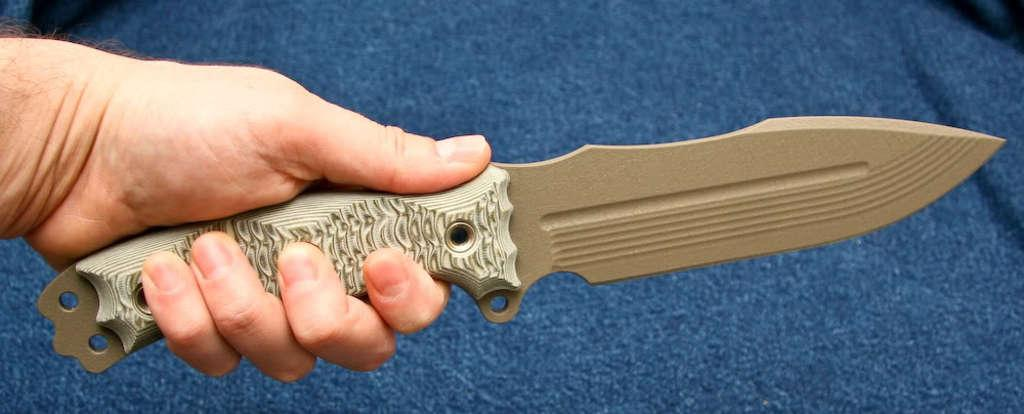Knife: (32, 119, 1010, 379)
